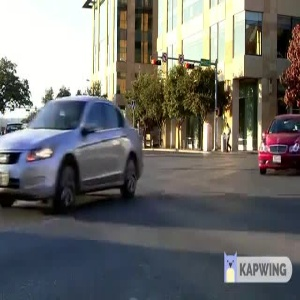car: (1, 93, 149, 205), (251, 112, 300, 176)
